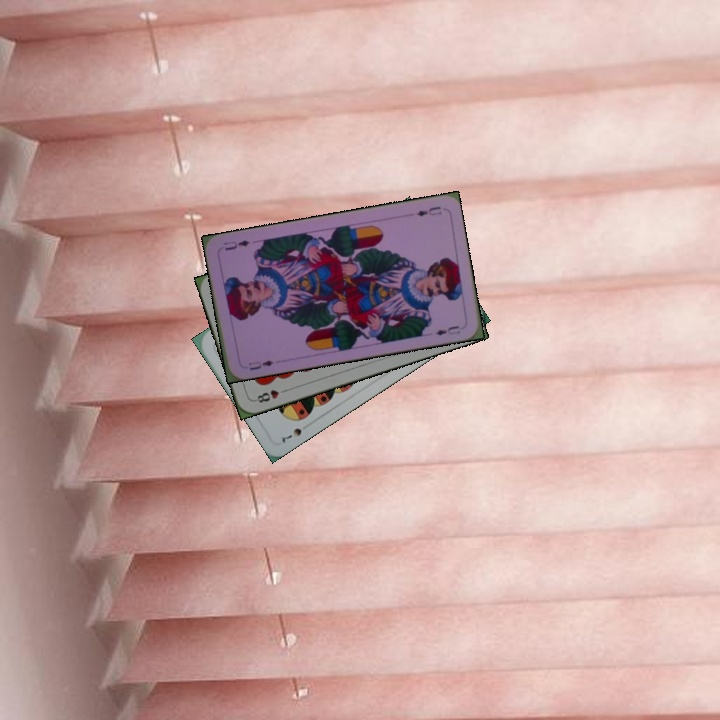EU: (244, 356, 276, 373), (412, 202, 444, 219)
H8: (250, 385, 290, 405)
S7: (278, 424, 304, 446)
